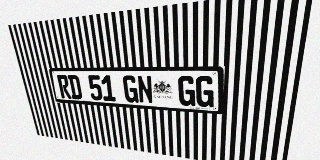1: (100, 75, 116, 101)
5: (88, 75, 103, 101)
D: (67, 75, 83, 99)
G: (196, 76, 214, 107), (178, 76, 195, 106), (122, 75, 139, 103)
N: (137, 75, 153, 104)
R: (57, 75, 72, 99)
